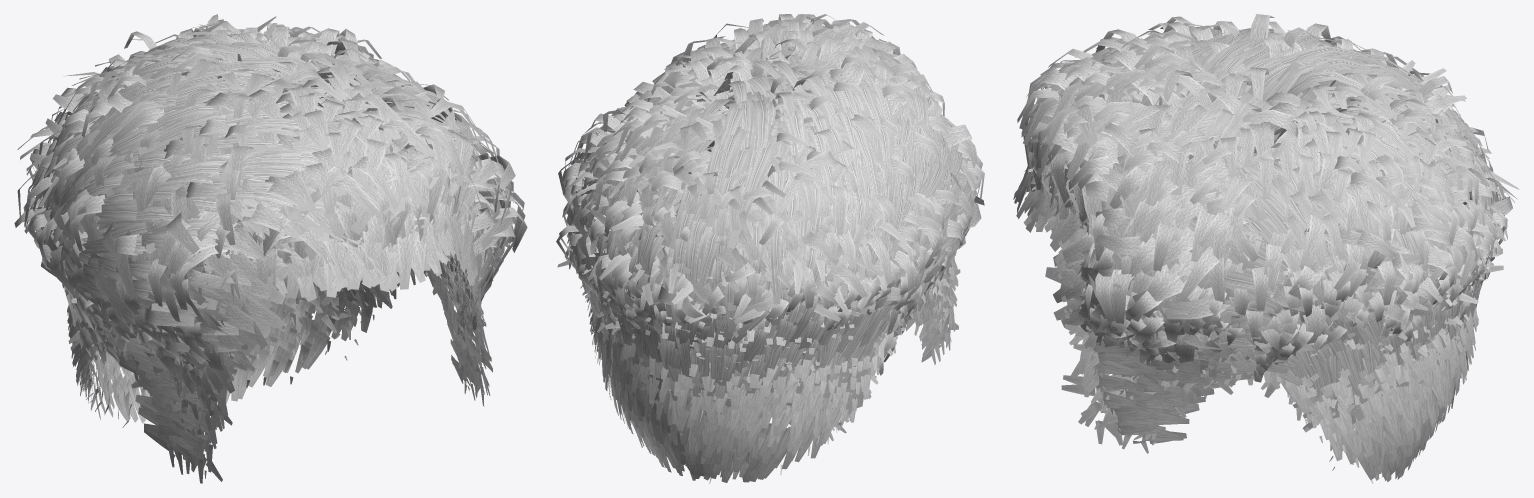
Rendered from NC_Head_Male_Cards2.fbx.
The picture shows the model from 3 angles, left to right: view 1: azimuth 30°, elevation 25°; view 2: azimuth 150°, elevation 25°; view 3: azimuth 270°, elevation 25°; orthographic projection. The views are drawn at different scales.
Visible parts, largest first — view 1: Hair_CurlyTop_Cards, Hair_SidePart_Cards, Hair_CurlyTop_CapCards, Hair_SidePart_CapCards; view 2: Hair_CurlyTop_Cards, Hair_SidePart_Cards, Hair_SidePart_CapCards, Hair_CurlyTop_CapCards; view 3: Hair_CurlyTop_Cards, Hair_SidePart_Cards, Hair_SidePart_CapCards, Hair_CurlyTop_CapCards.
Part boxes in pixels (x1=…): Hair_CurlyTop_Cards: x1=14, y1=14, x2=527, y2=481; Hair_SidePart_Cards: x1=33, y1=31, x2=493, y2=457; Hair_CurlyTop_CapCards: x1=41, y1=229, x2=514, y2=483; Hair_SidePart_CapCards: x1=62, y1=245, x2=493, y2=465; Hair_CurlyTop_Cards: x1=556, y1=14, x2=984, y2=438; Hair_SidePart_Cards: x1=574, y1=45, x2=984, y2=483; Hair_SidePart_CapCards: x1=588, y1=226, x2=963, y2=482; Hair_CurlyTop_CapCards: x1=562, y1=234, x2=965, y2=440; Hair_CurlyTop_Cards: x1=1013, y1=14, x2=1519, y2=467; Hair_SidePart_Cards: x1=1045, y1=25, x2=1500, y2=481; Hair_SidePart_CapCards: x1=1085, y1=279, x2=1485, y2=483; Hair_CurlyTop_CapCards: x1=1056, y1=248, x2=1503, y2=470.
Bounding box in the file's own units: 0.7449 × 0.7494 × 0.8224.
Materials: 1 (1 with a texture image).
